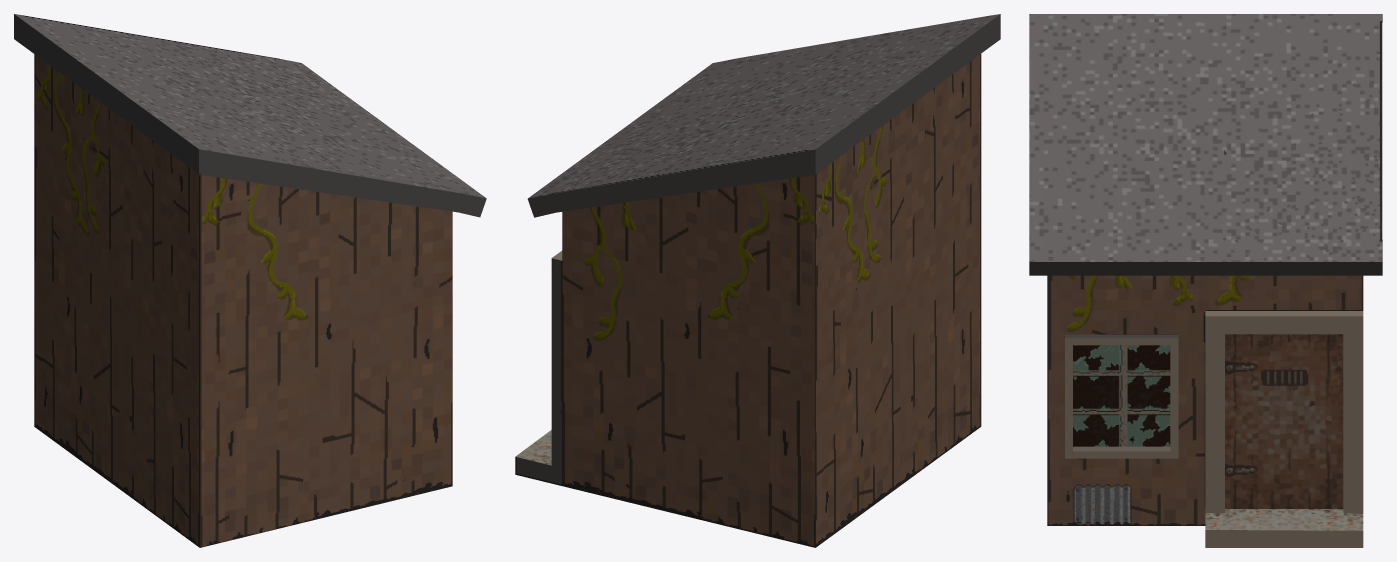
The model's file is shed.fbx.
3 renders of one model, left to right at view 1: azimuth 30°, elevation 25°; view 2: azimuth 150°, elevation 25°; view 3: azimuth 270°, elevation 25°, orthographic. The views are drawn at different scales.
Visible parts, largest first — view 1: Cube; view 2: Cube; view 3: Cube.
Boxes of the visible parts, left/top/right/bottom form: Cube: left=14, top=14, right=486, bottom=547; Cube: left=515, top=14, right=1000, bottom=547; Cube: left=1029, top=14, right=1382, bottom=547.
Bounding box in the file's own units: 216 × 272 × 223.
